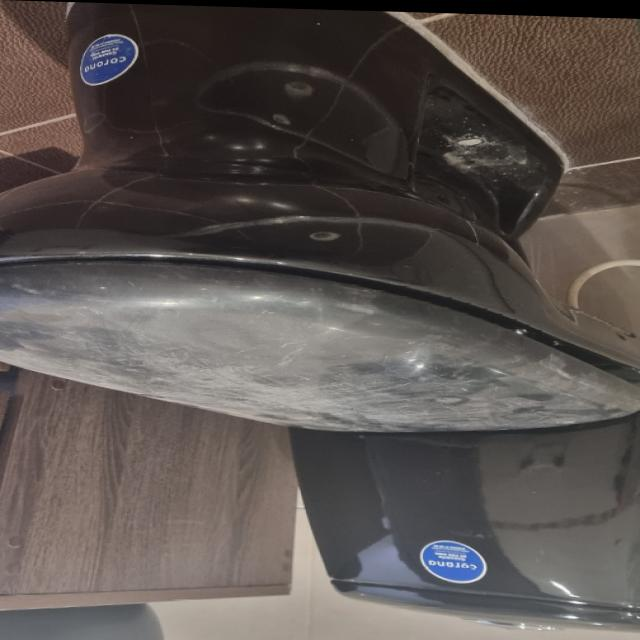toilet: (3, 2, 640, 632)
